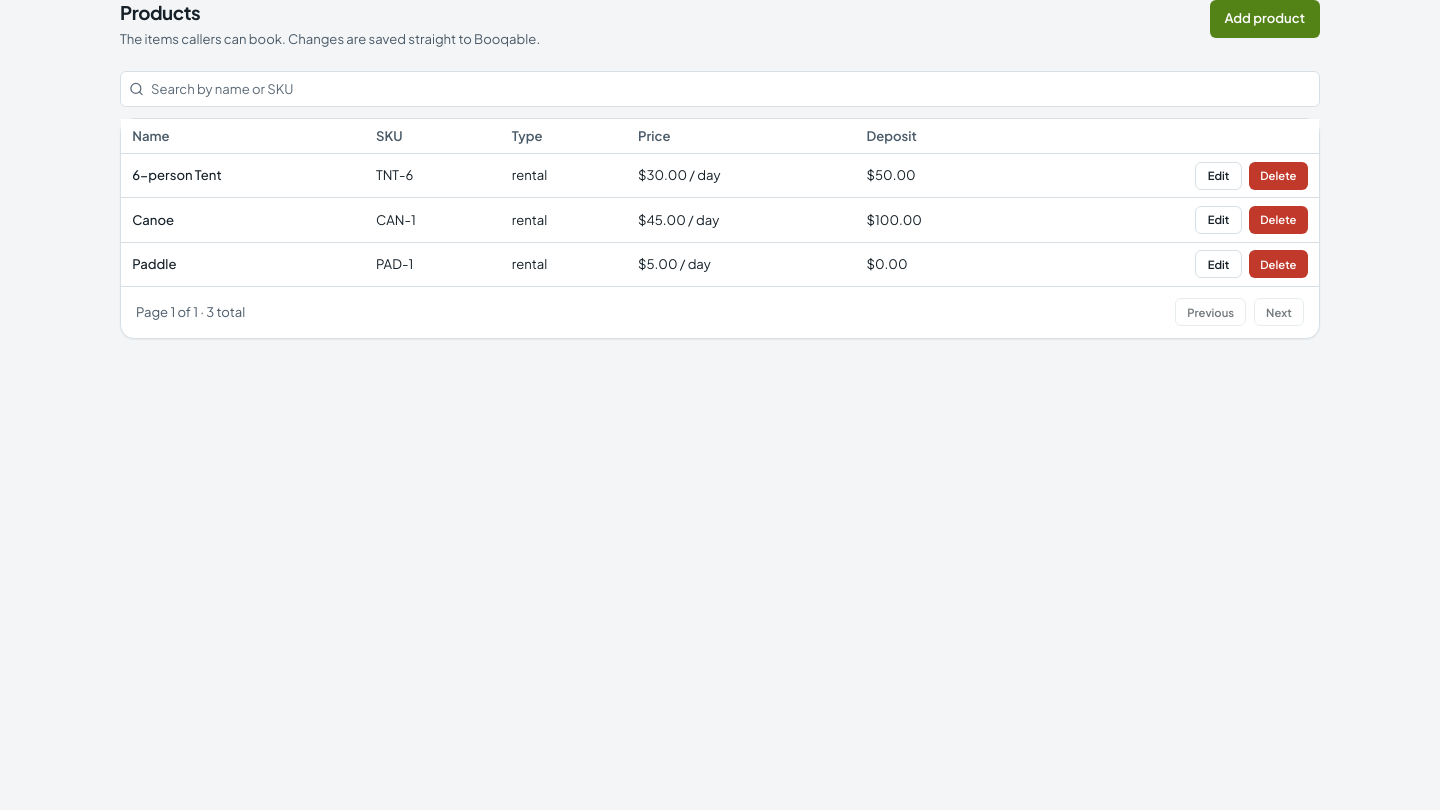
Scenario: ProductsPage › shows the save error inside the form
expect the text "Canoe" is shown: met, box [132,210,174,228]
Click the button "Add product": (1265,19) [1210,0,1320,38]
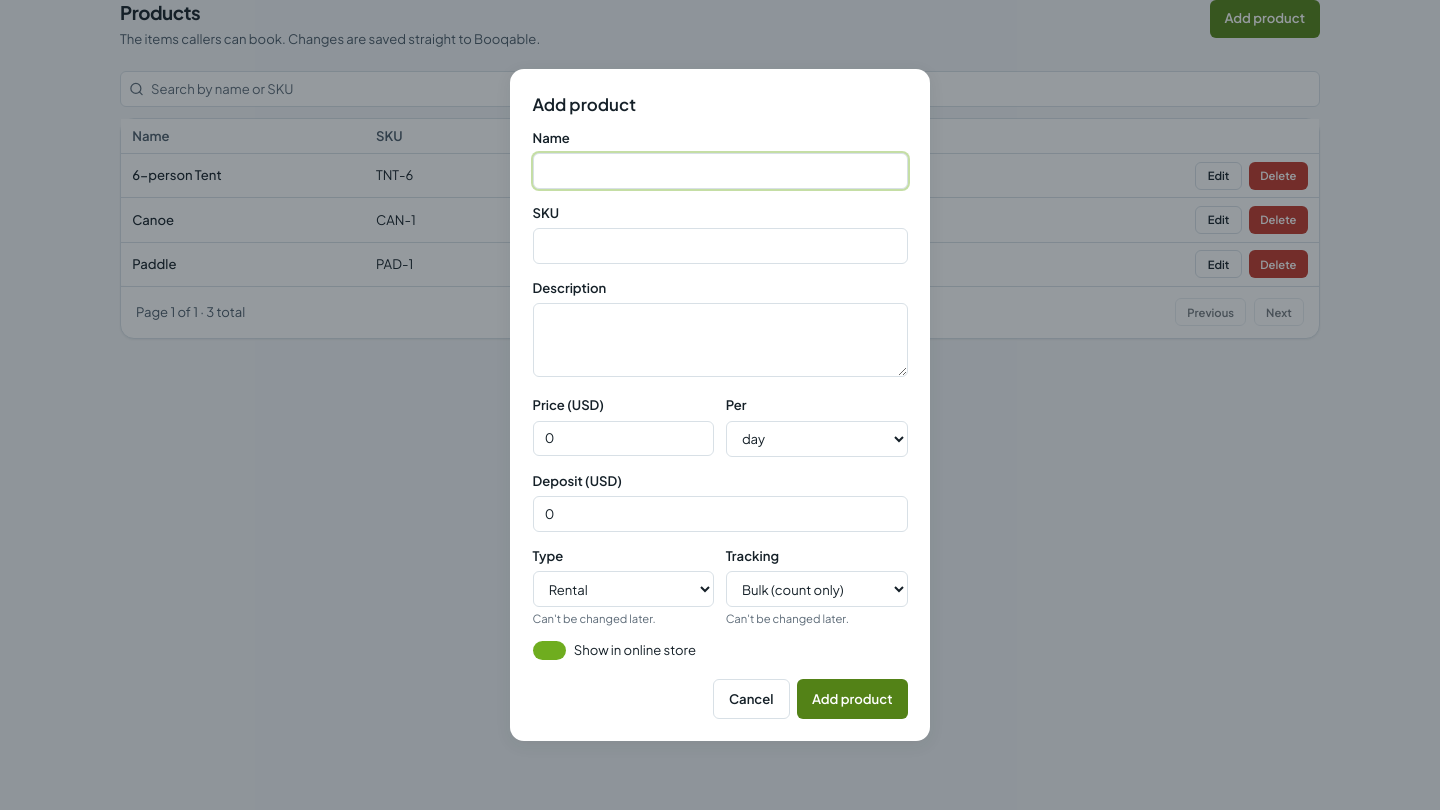
In the field labelled "Name": (720,171) [532,153,908,189], type "X"
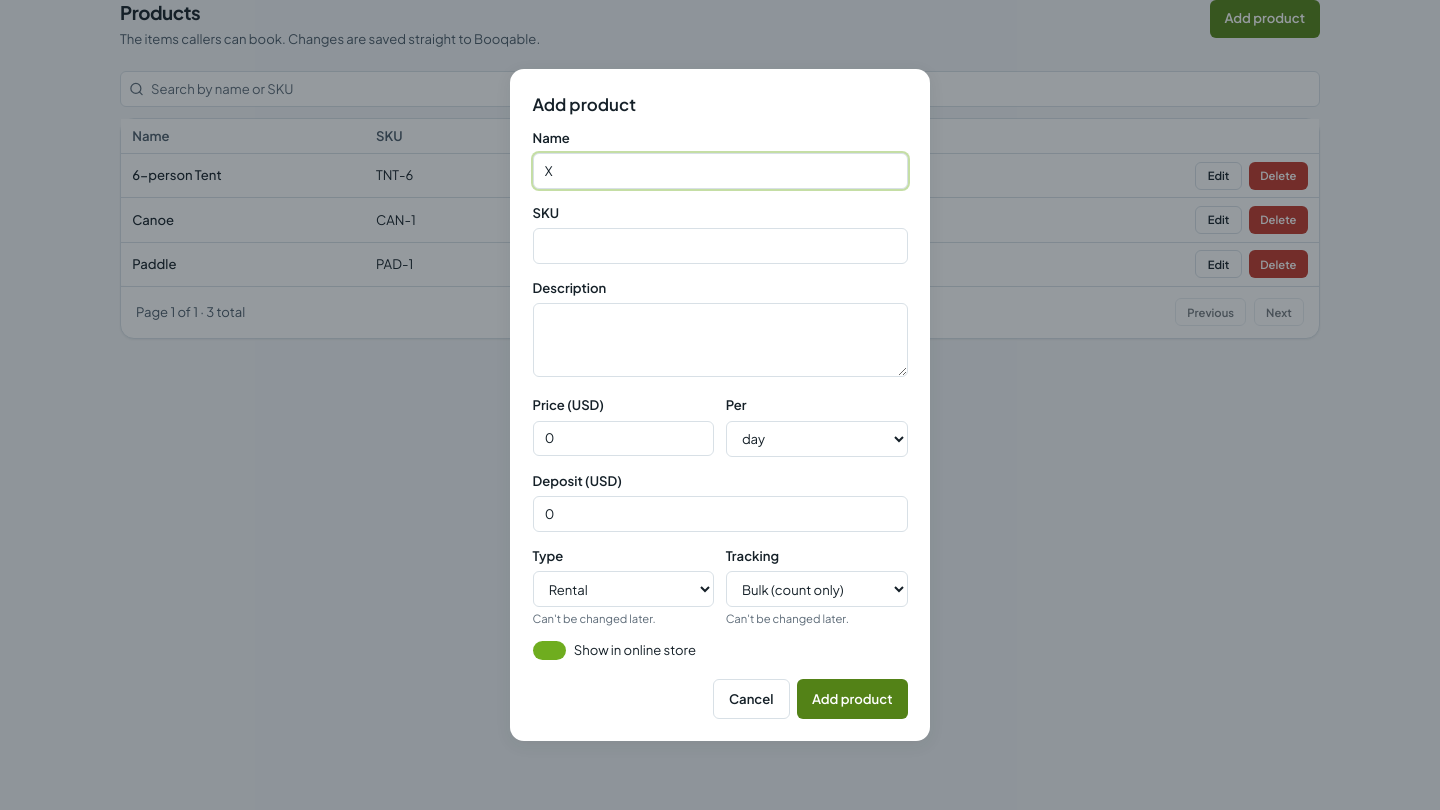
Click the button "Add product": (852,699) [797,679,908,719]
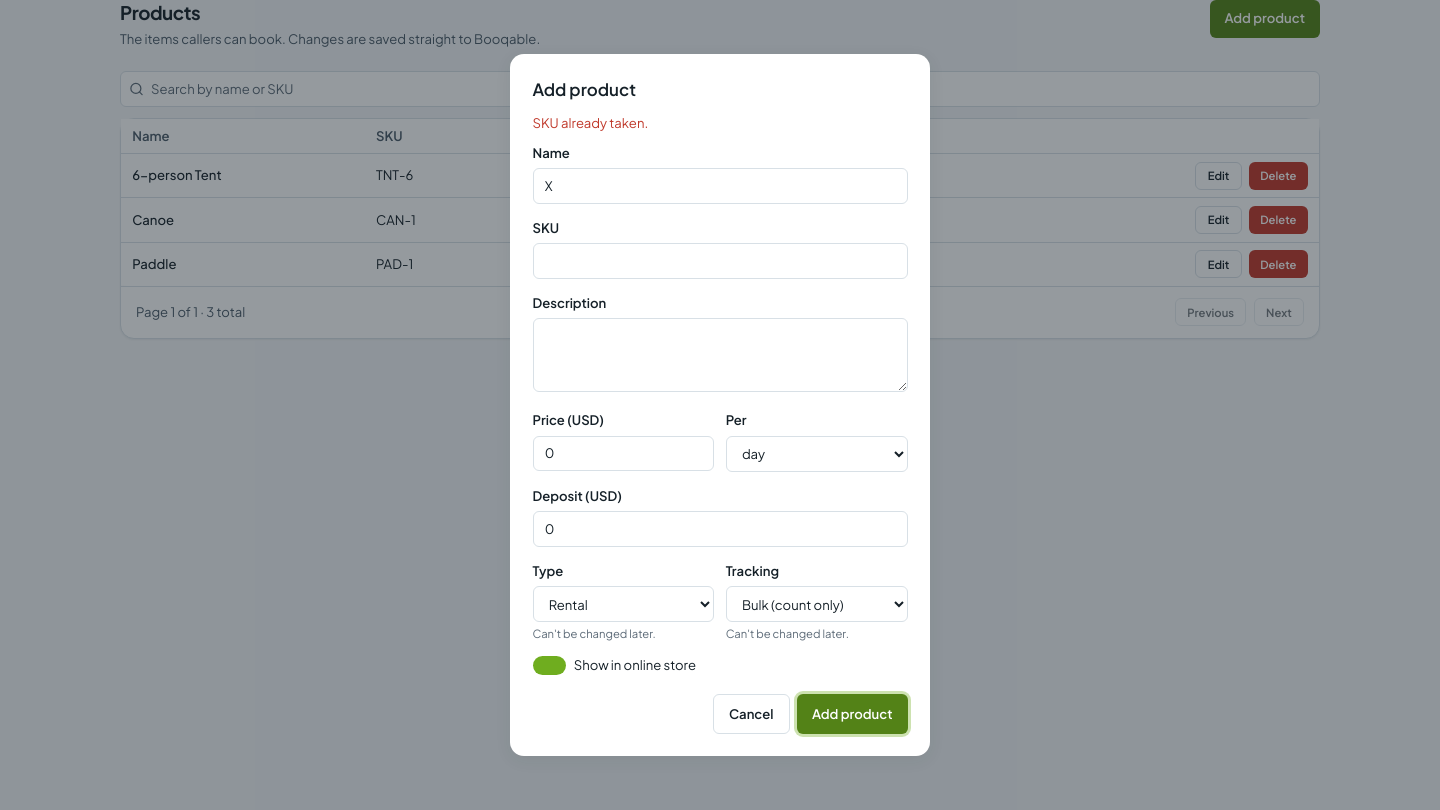
expect the text "SKU already taken." is shown: met, box [532,114,648,131]
